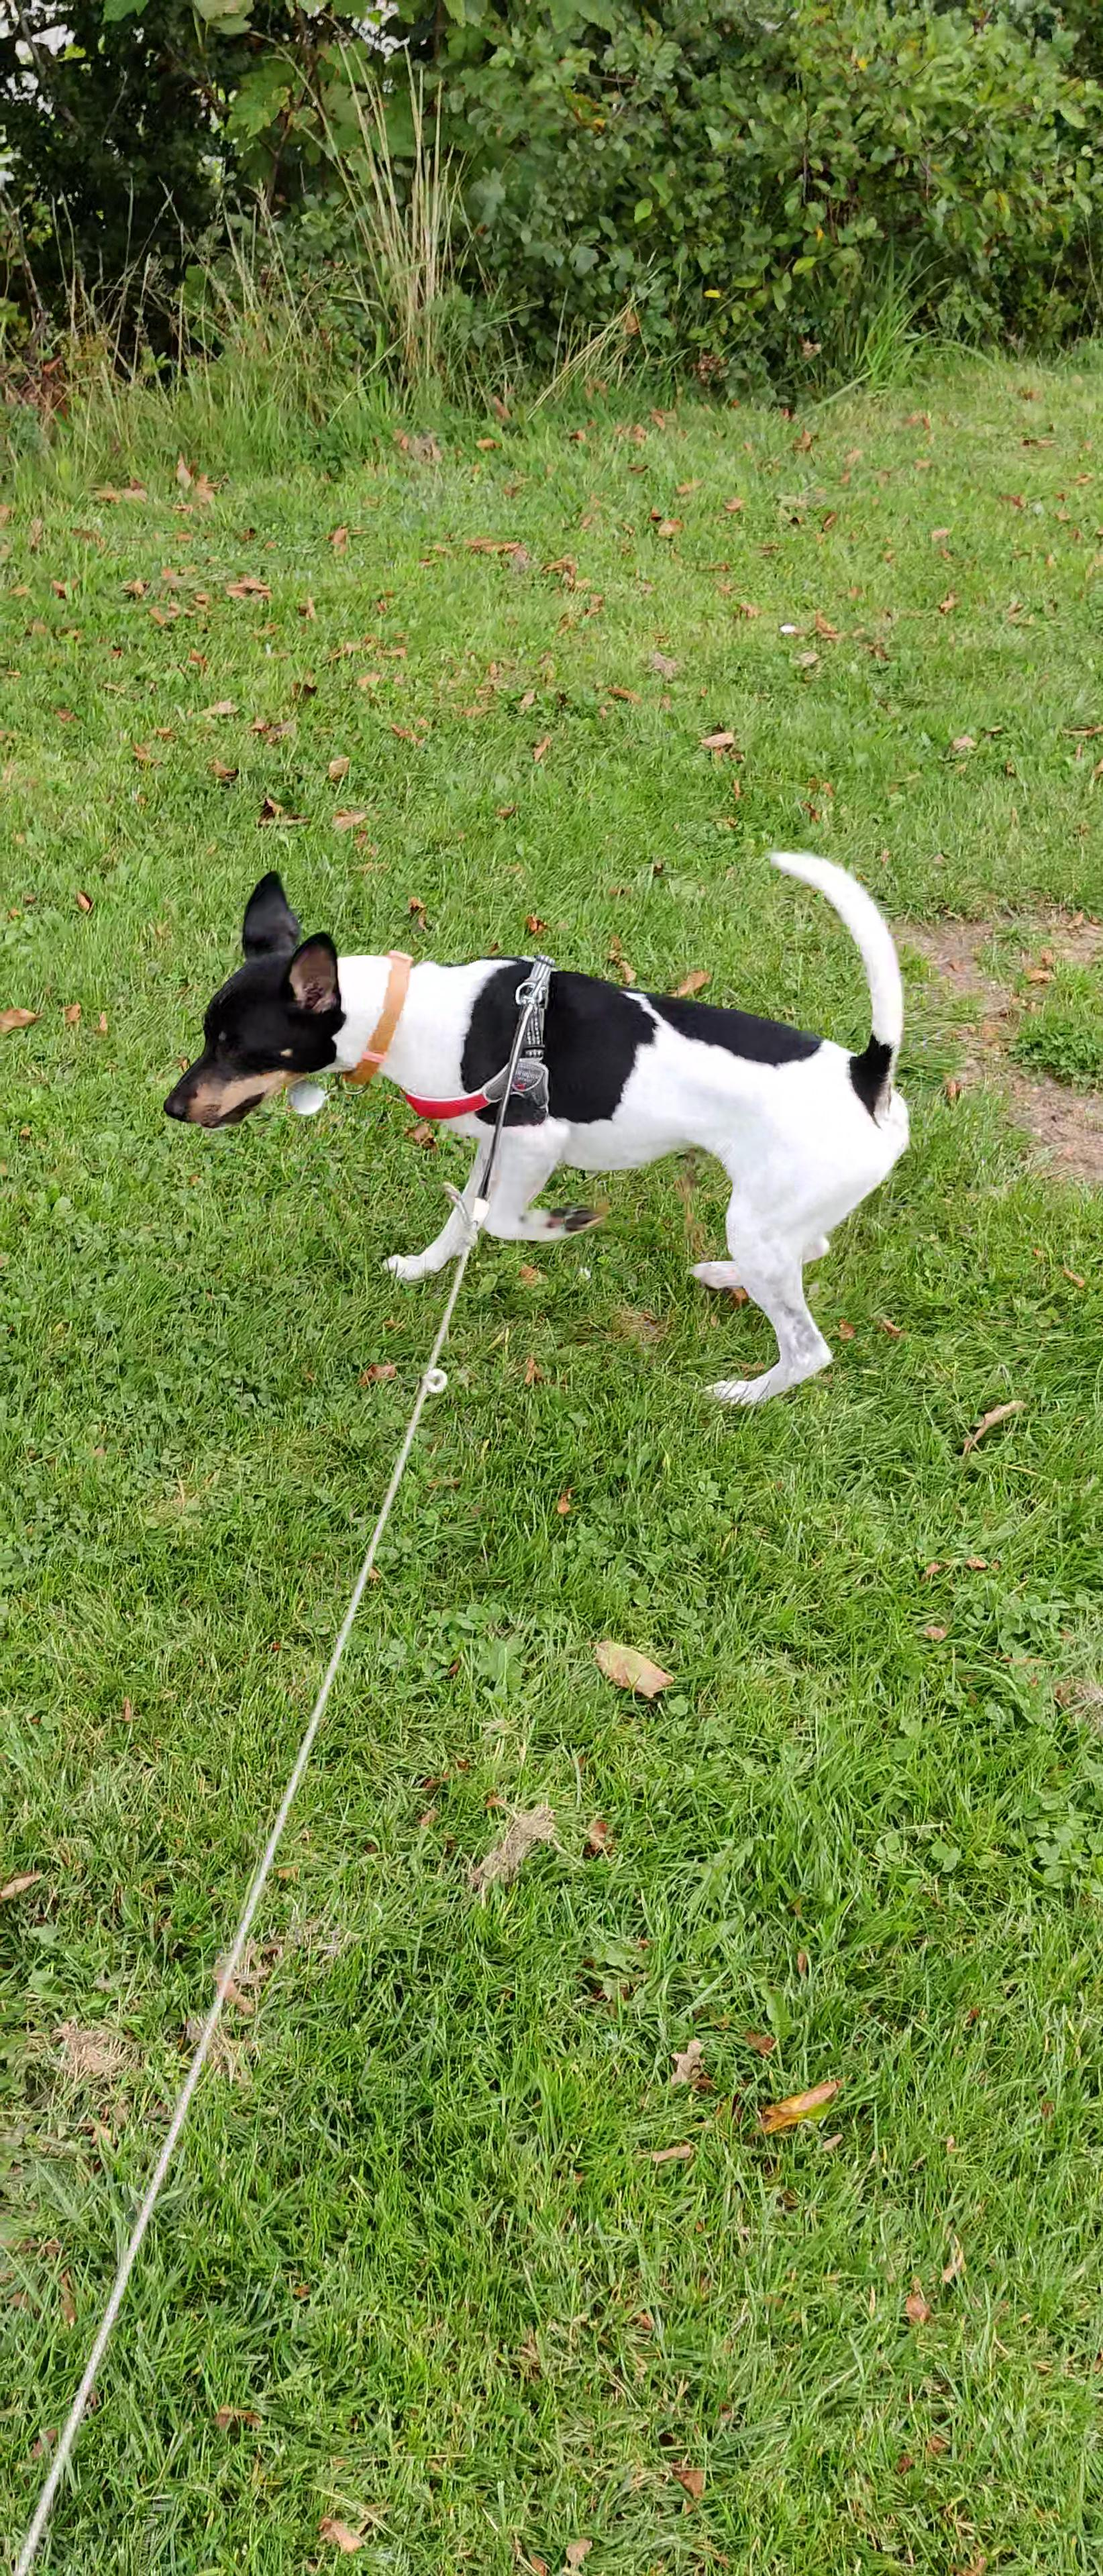Dog: (150, 844, 922, 1413)
